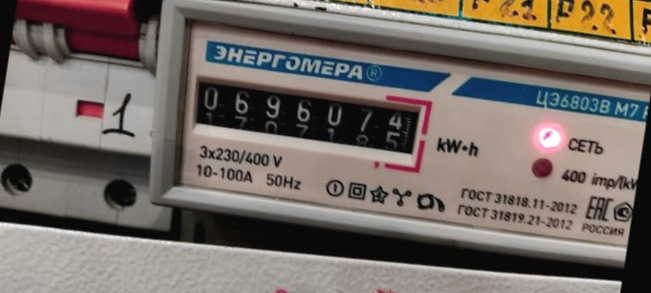0: (199, 82, 221, 110), (324, 98, 344, 126)
4: (386, 107, 403, 129)
5: (383, 128, 400, 149)
6: (230, 86, 252, 113), (293, 94, 313, 123)
7: (354, 104, 374, 132)
9: (261, 91, 282, 119)
screen: (180, 60, 435, 174)
